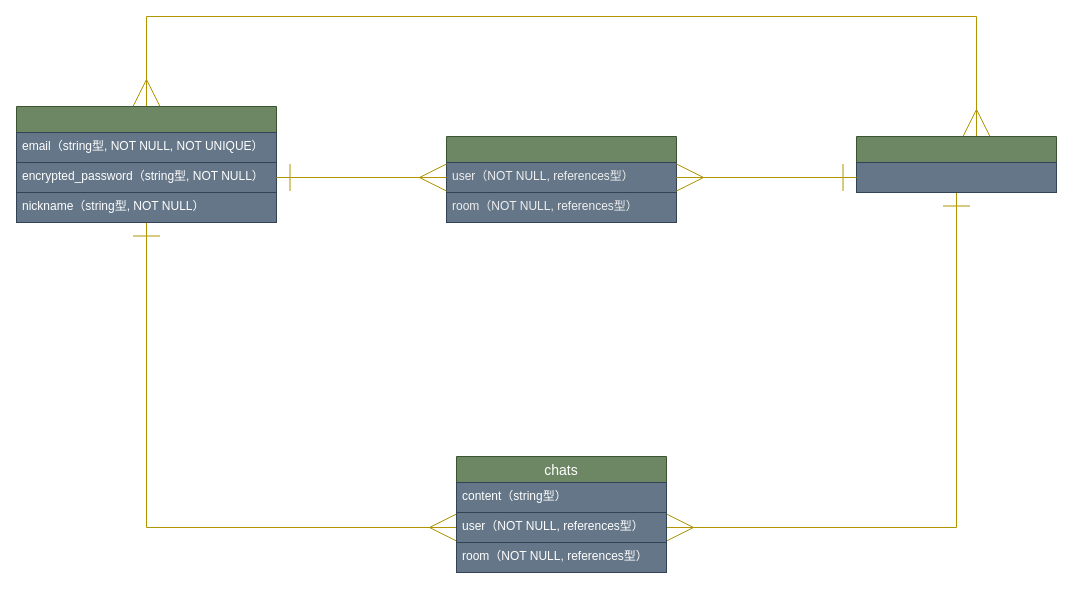
This 1073x589 diagram has some shape labels left out. Here are the shapes that lost their labels. From the top down, the box of each, then its label:
(16, 106, 276, 222): users
(446, 136, 676, 222): room_users
(856, 136, 1056, 192): rooms
(856, 162, 1056, 192): title（string型, NOT NULL）
